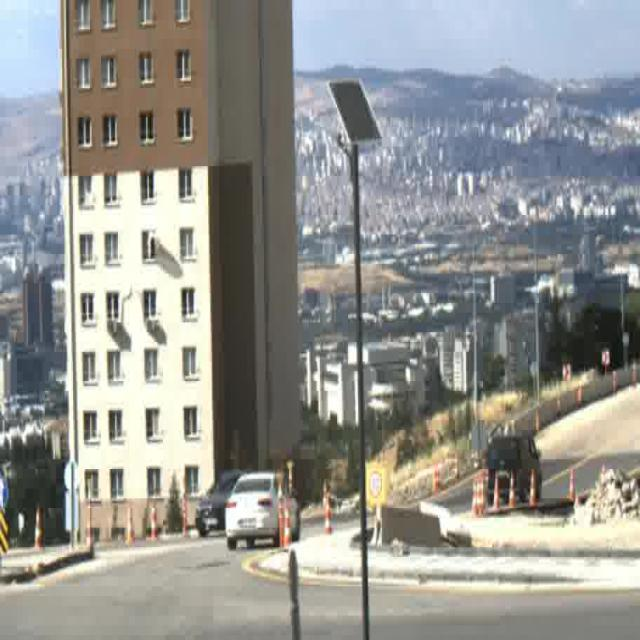Car: (225, 472, 300, 550), (487, 435, 542, 503), (195, 471, 248, 534)
